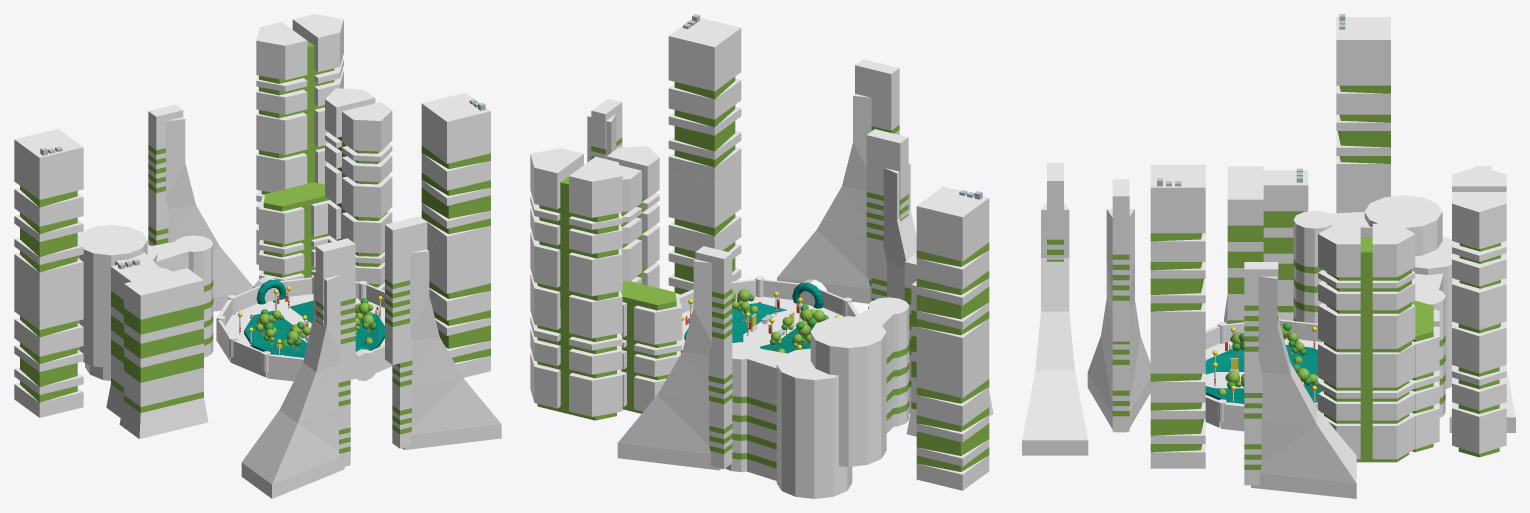
3 renders of one model, left to right at view 1: azimuth 30°, elevation 25°; view 2: azimuth 150°, elevation 25°; view 3: azimuth 270°, elevation 25°, orthographic. The views are drawn at different scales.
Parts seen in each view (by area): view 1: group1872301862; view 2: group1872301862; view 3: group1872301862.
Part boxes in pixels (left/top/right/bottom): group1872301862: left=14, top=14, right=501, bottom=498; group1872301862: left=530, top=14, right=993, bottom=498; group1872301862: left=1022, top=14, right=1515, bottom=498.
Bounding box in the file's own units: 1.74 × 1.22 × 1.62.
Materials: 1 (1 with a texture image).
